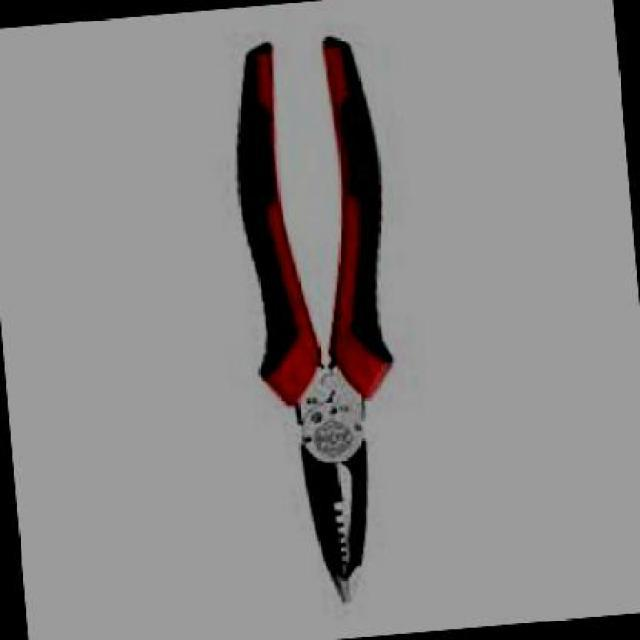pliers: (208, 1, 442, 632)
